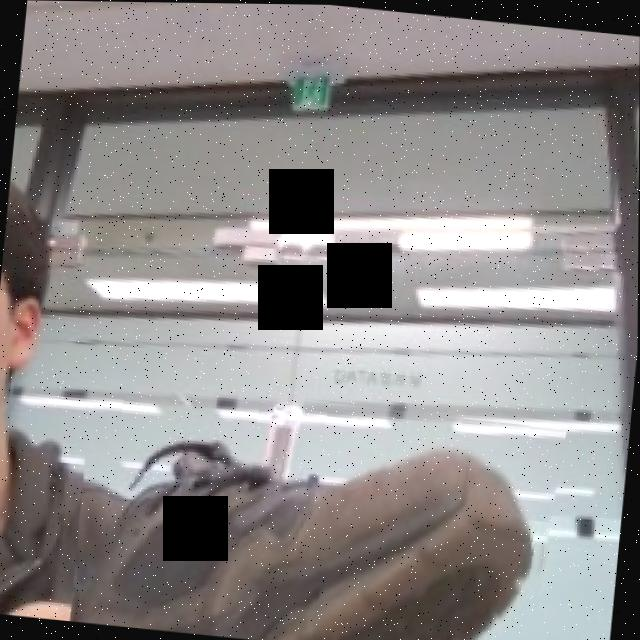shoe: (70, 374, 568, 640)
